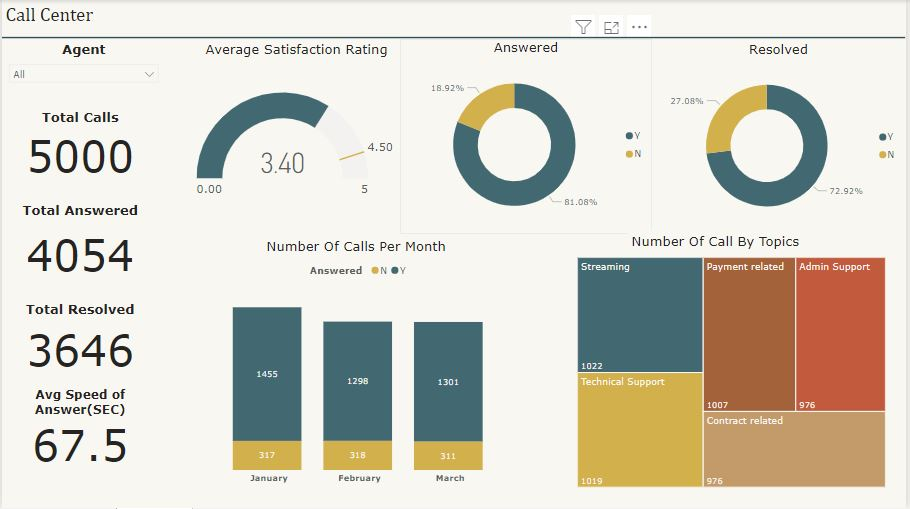

What the dashboard file says about the page in this screenshot:
{"tool":"powerbi","page":{"name":"Page 1","canvas":[1280,720],"ordinal":0},"visuals":[{"type":"slicer","title":"Agent","fields":{"Values":["Sheet1.Agent"]},"box":[0,57.6,231.8,67.7],"z":0},{"type":"gauge","title":"Average Satisfaction Rating","fields":{"Y":["Avg(Sheet1.Satisfaction rating)"],"MaxValue":["Max(Sheet1.Satisfaction rating)"]},"box":[270.7,57.6,293.8,273.6],"z":1000},{"type":"donutChart","title":" Answered ","fields":{"Category":["Sheet1.Answered (Y/N)"],"Y":["CountNonNull(Sheet1.Answered (Y/N))"]},"box":[564.5,54.7,357.1,276.5],"z":2000},{"type":"donutChart","title":"Resolved","fields":{"Category":["Sheet1.Resolved"],"Y":["CountNonNull(Sheet1.Resolved)"]},"box":[921.6,57.6,358.6,273.6],"z":3000},{"type":"card","title":"Avg Speed of Answer(SEC)","fields":{"Values":["Avg(Sheet1.Speed of answer in seconds)"]},"box":[0,548.6,221.8,115.2],"z":4000},{"type":"columnChart","title":"Answered by Month","fields":{"Y":["CountNonNull(Sheet1.Answered (Y/N))"],"Category":["Sheet1.Date.Variation.Date Hierarchy.Month"],"Series":["Sheet1.Answered (Y/N)"]},"box":[270.7,362.9,472.3,332.6],"z":5000},{"type":"card","title":"Total Calls","fields":{"Values":["Count(Sheet1.Call Id)"]},"box":[0,154.1,221.8,103.7],"z":6000},{"type":"card","title":"Total Resolved","fields":{"Values":["Sheet1.Resolved(Y)"]},"box":[0,426.2,221.8,109.4],"z":7000},{"type":"card","title":"Total Answered","fields":{"Values":["Sheet1.Answered"]},"box":[0,286.6,221.8,119.5],"z":8000},{"type":"treemap","fields":{"Group":["Sheet1.Topic"],"Values":["CountNonNull(Sheet1.Call Id)"]},"box":[810.7,360,446.4,335.5],"z":9000},{"type":"textbox","box":[0,0,414.7,54.7],"z":10000},{"type":"textbox","box":[0,0,204.5,57.6],"z":11000},{"type":"shape","box":[0,47.5,1280.2,10.1],"z":12000},{"type":"textbox","box":[887,324,292.3,38.9],"z":12001},{"type":"textbox","box":[370.1,331.2,316.8,41.8],"z":12002}]}

Visuals, with their boxes in screenshot pixels (x1, y1, x2, y2), scaled from the page's 1280x720 canvas onto the 910x509 screenshot:
"Agent" slicer: Rect(0, 41, 165, 89)
"Average Satisfaction Rating" gauge: Rect(192, 41, 401, 234)
" Answered " donutChart: Rect(401, 39, 655, 234)
"Resolved" donutChart: Rect(655, 41, 909, 234)
"Avg Speed of Answer(SEC)" card: Rect(0, 388, 158, 469)
"Answered by Month" columnChart: Rect(192, 257, 528, 492)
"Total Calls" card: Rect(0, 109, 158, 182)
"Total Resolved" card: Rect(0, 301, 158, 379)
"Total Answered" card: Rect(0, 203, 158, 287)
treemap - Sheet1.Topic x CountNonNull(Sheet1.Call Id): Rect(576, 255, 894, 492)
textbox: Rect(0, 0, 295, 39)
textbox: Rect(0, 0, 145, 41)
shape: Rect(0, 34, 909, 41)
textbox: Rect(631, 229, 838, 257)
textbox: Rect(263, 234, 488, 264)
